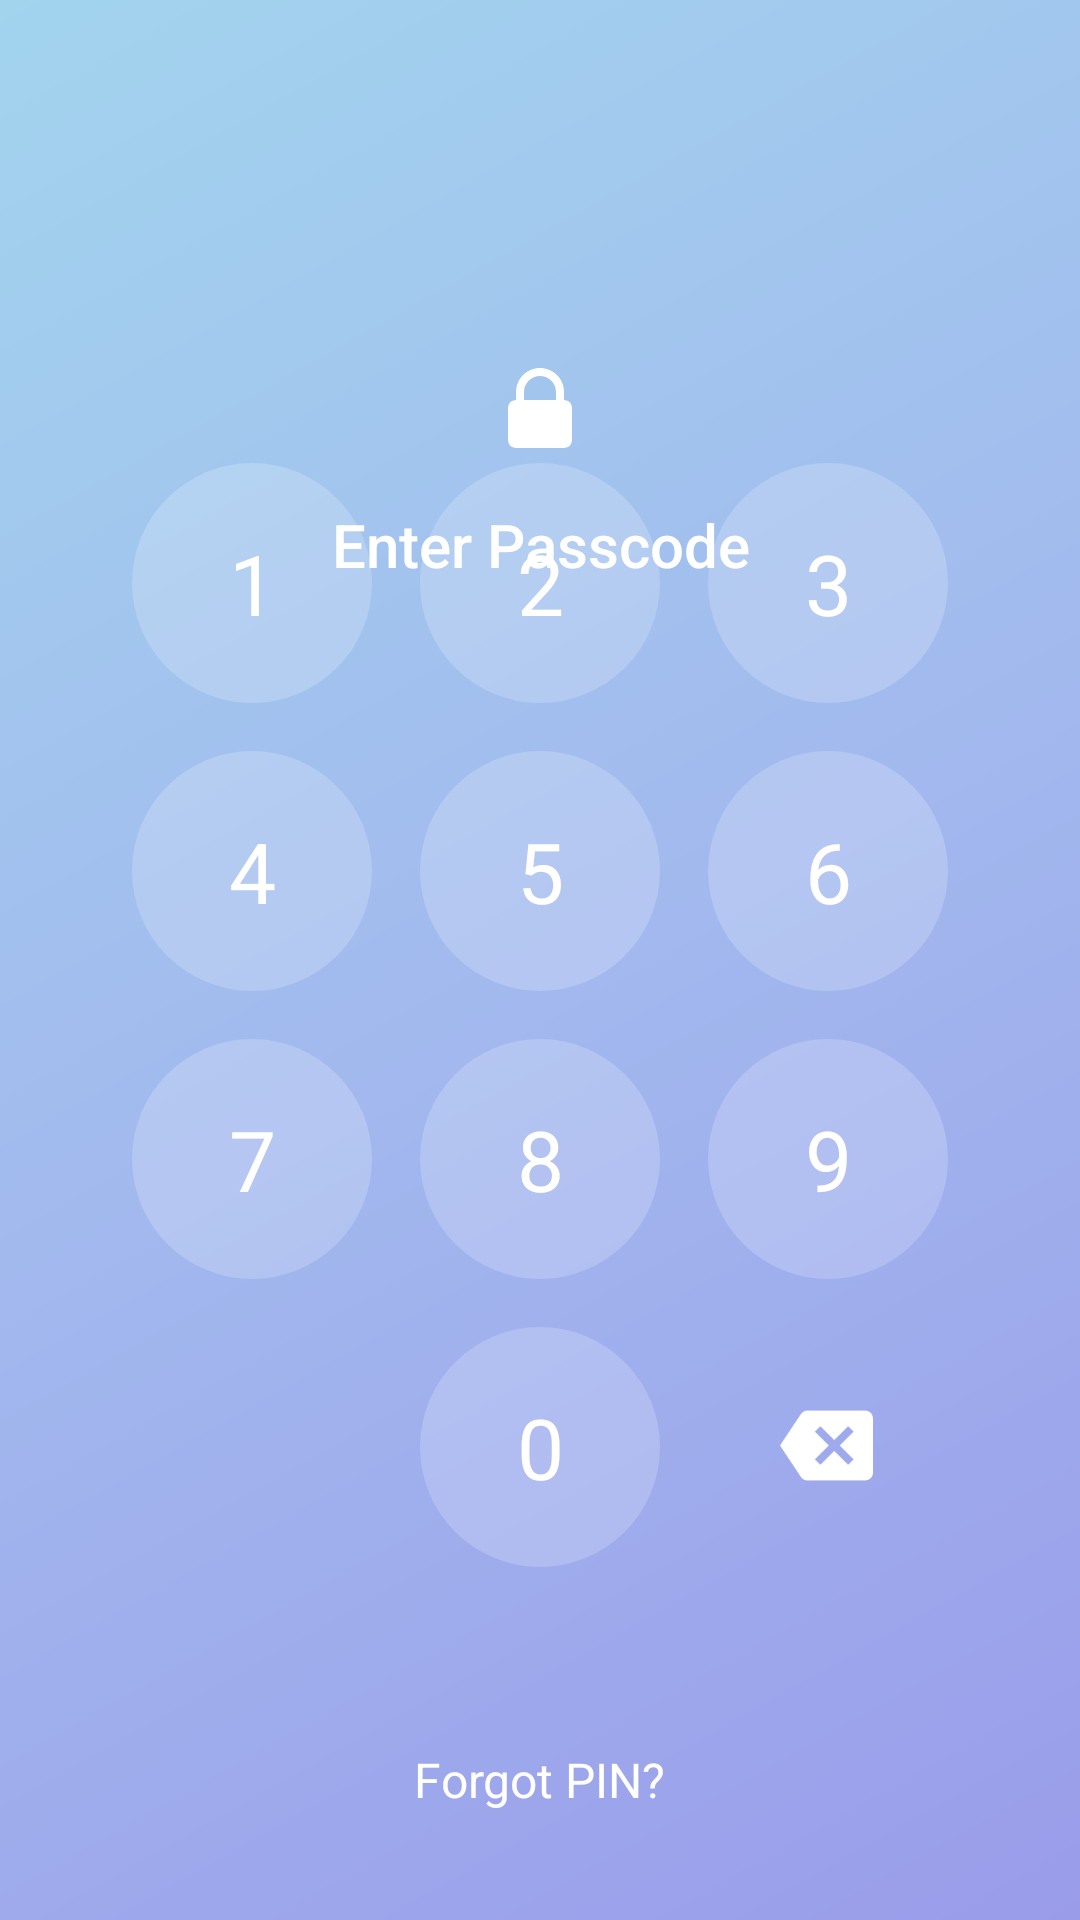

Where icons sit on this 1080px x 1920px app screen, as (x1, y1, x2, y2):
backspace: (780, 1410, 873, 1481)
lock: (508, 368, 572, 448)
